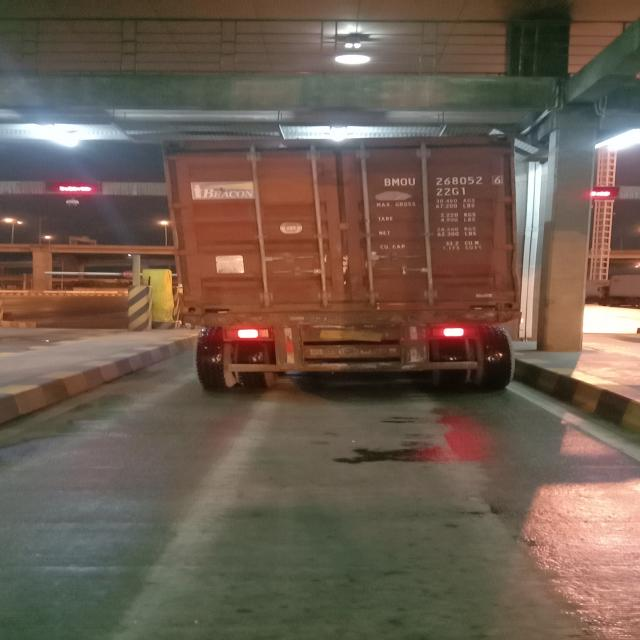seal: (374, 301, 384, 310), (399, 266, 409, 275)
